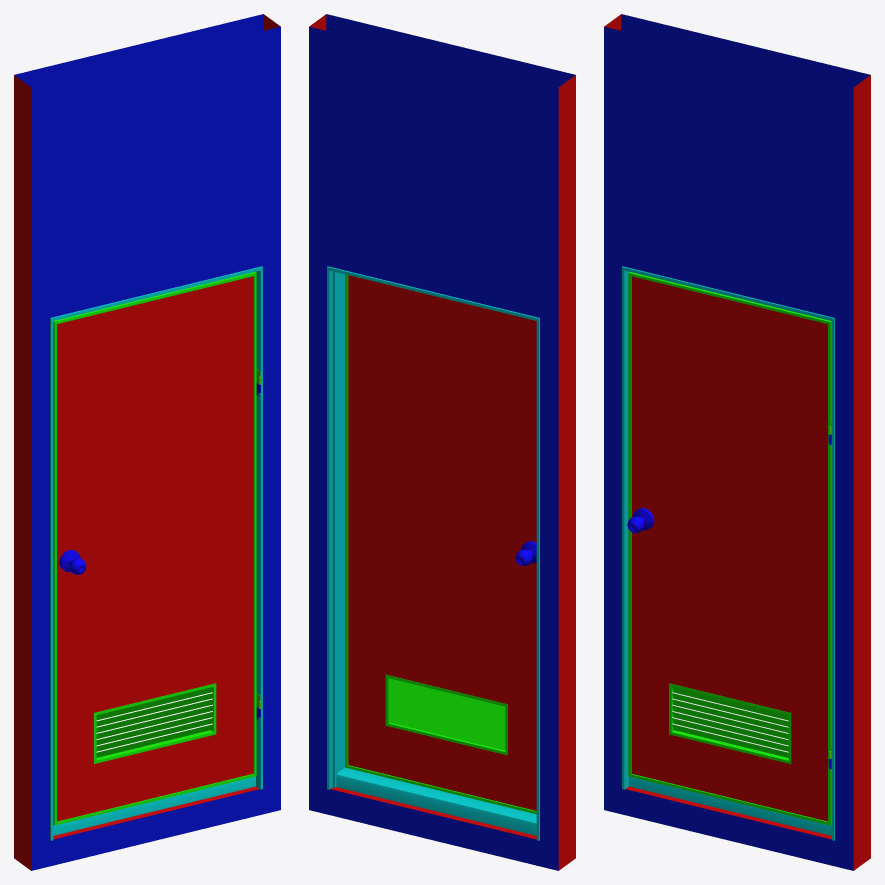
File: toilet_door.FBX
3 renders of one model, left to right at view 1: azimuth 30°, elevation 25°; view 2: azimuth 150°, elevation 25°; view 3: azimuth 330°, elevation 25°, orthographic.
Visible parts, largest first — view 1: door_frame, door; view 2: door_frame, door; view 3: door_frame, door.
Boxes of the visible parts, x1,y1,x2,y2 form: door_frame: (14,14,280,870); door: (53,272,260,825); door_frame: (309,14,575,870); door: (345,274,536,814); door_frame: (604,14,870,870); door: (627,272,831,825).
Size of the model in its own units: 1 by 0.201 by 3.
